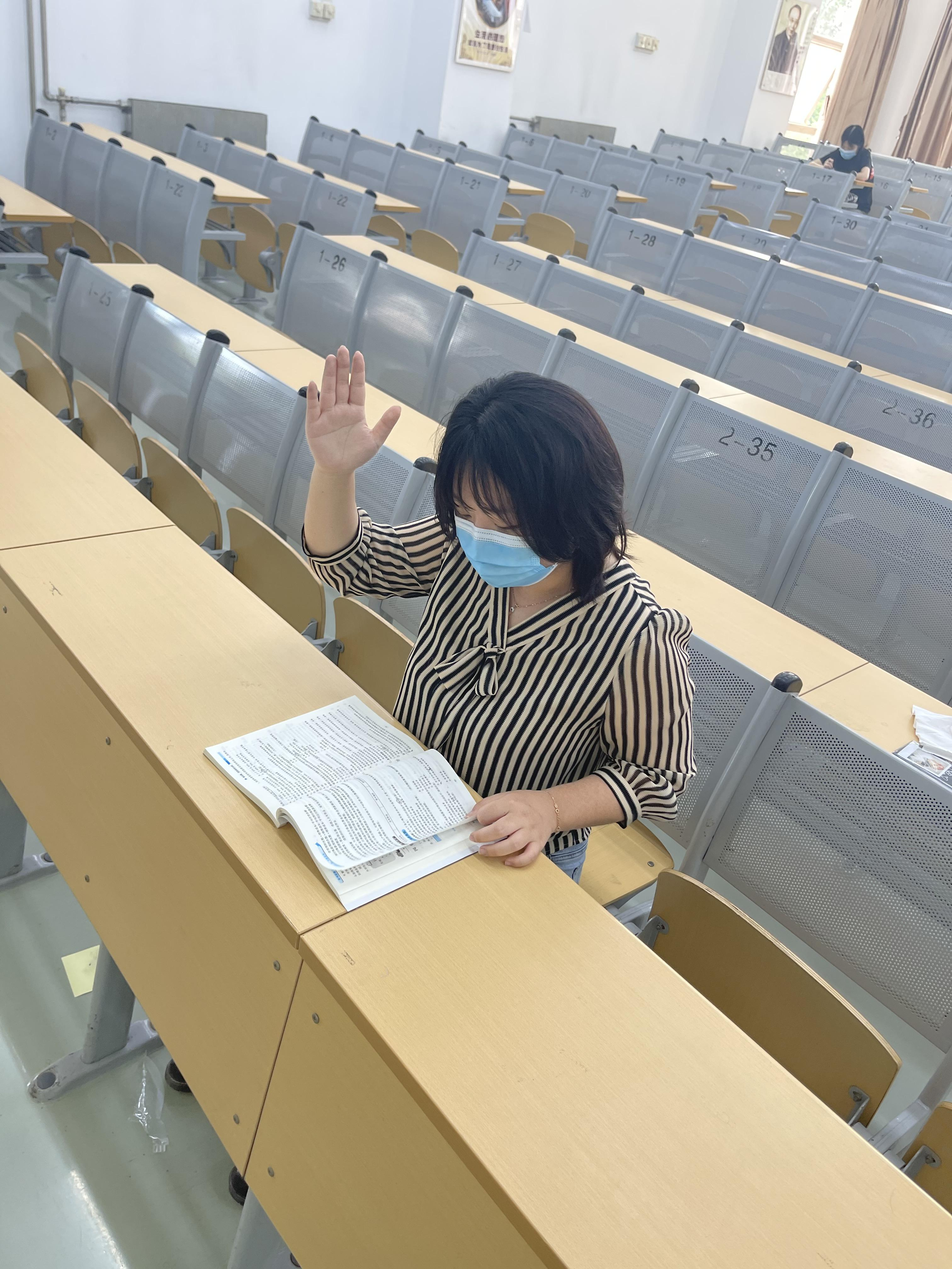study: (229, 337, 698, 898)
